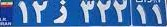character: (50, 1, 70, 26), (77, 1, 96, 25), (31, 1, 49, 25), (96, 1, 112, 26), (113, 1, 129, 26), (14, 1, 31, 24), (151, 4, 166, 27), (135, 3, 149, 27)
